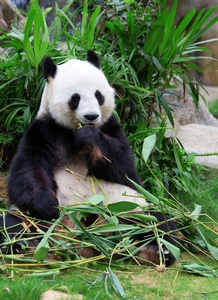panda: (16, 48, 169, 269)
